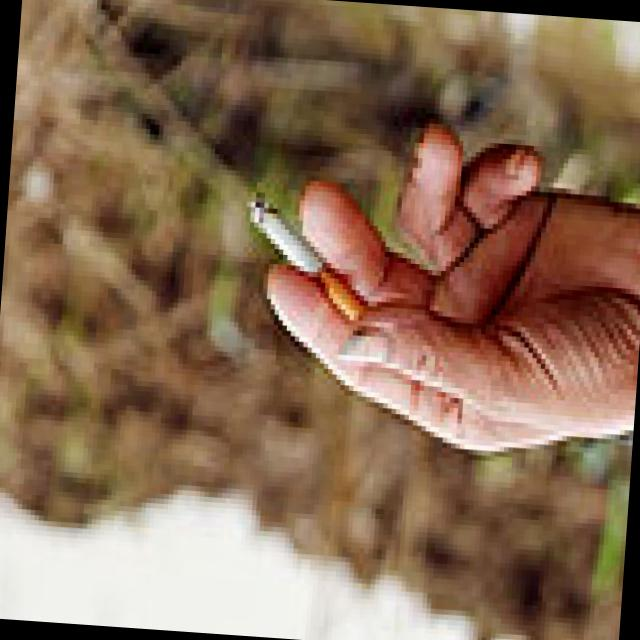cigarette: (238, 186, 372, 322)
